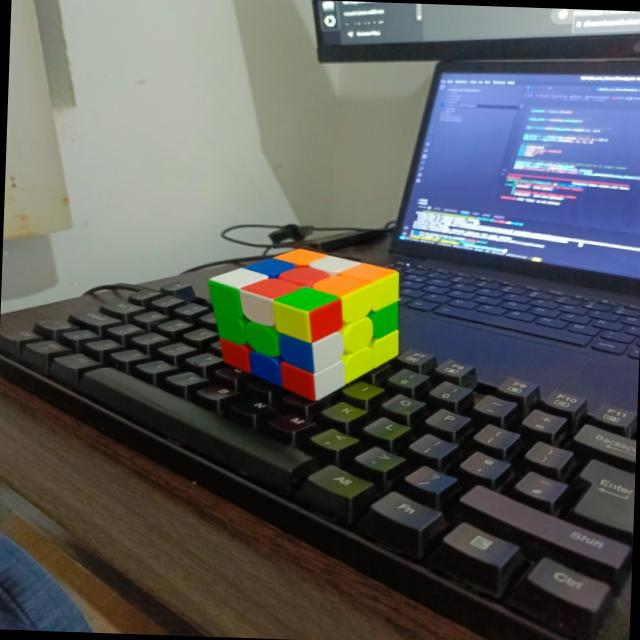rubik: (202, 242, 404, 403)
